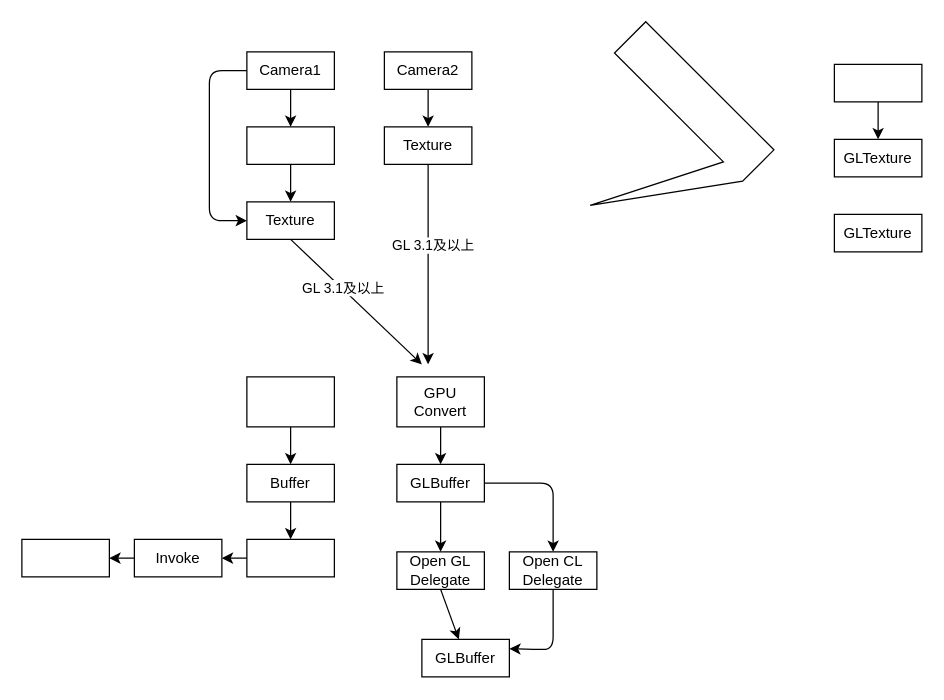
Image size: 944x700. Some labels were removed from this diagram. The shapes that lost their labels are listed below. From the top down, each one's box as (x1, y1, x2, y2) in pixels, then its label:
(833, 63, 922, 102): Camera
(246, 126, 334, 164): YUV
(525, 20, 774, 270): Padding, Scale, Rotate
(246, 376, 334, 427): CPU Convert
(21, 538, 109, 577): Outputs
(246, 538, 334, 577): Inputs
